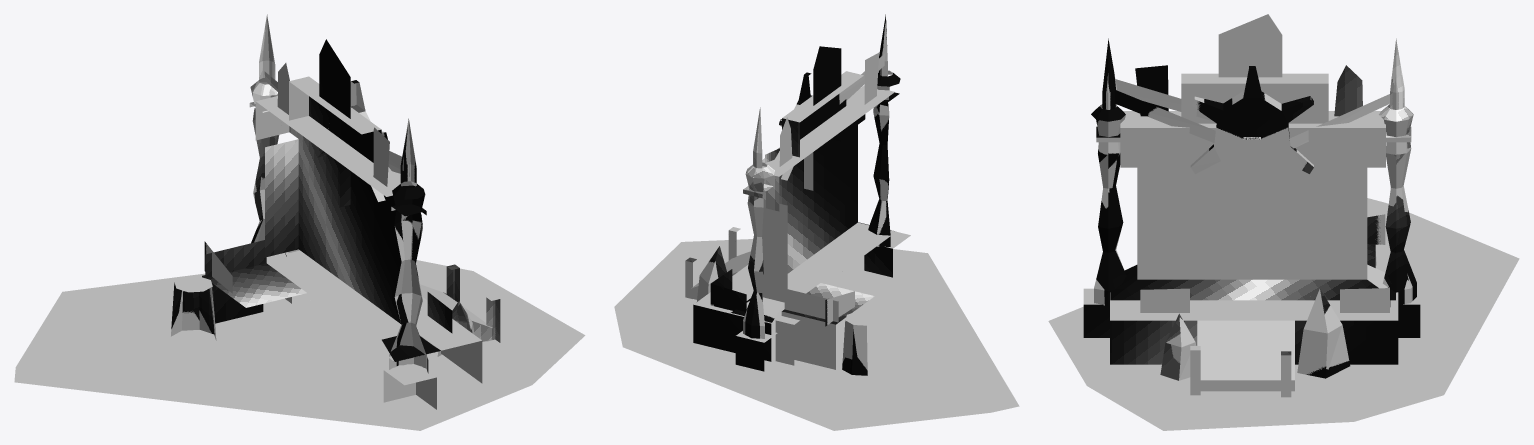
Rendered from T_NoticeBoard_01.fbx.
3 views of the same model, side by side, from view 1: azimuth 30°, elevation 25°; view 2: azimuth 150°, elevation 25°; view 3: azimuth 270°, elevation 25° (orthographic). The views are drawn at different scales.
Parts seen in each view (by area): view 1: T_NoticeBoard_01, T_NoticeBoard_Glow; view 2: T_NoticeBoard_01, T_NoticeBoard_Glow; view 3: T_NoticeBoard_01, T_NoticeBoard_Glow.
Part boxes in pixels (x1,y1,x2,y2): T_NoticeBoard_01: [14, 14, 585, 430]; T_NoticeBoard_Glow: [171, 18, 500, 373]; T_NoticeBoard_01: [614, 22, 1019, 430]; T_NoticeBoard_Glow: [686, 14, 900, 375]; T_NoticeBoard_01: [1048, 14, 1519, 430]; T_NoticeBoard_Glow: [1083, 38, 1420, 380].
Size of the model in its own units: 5.58 by 3.48 by 4.71.
